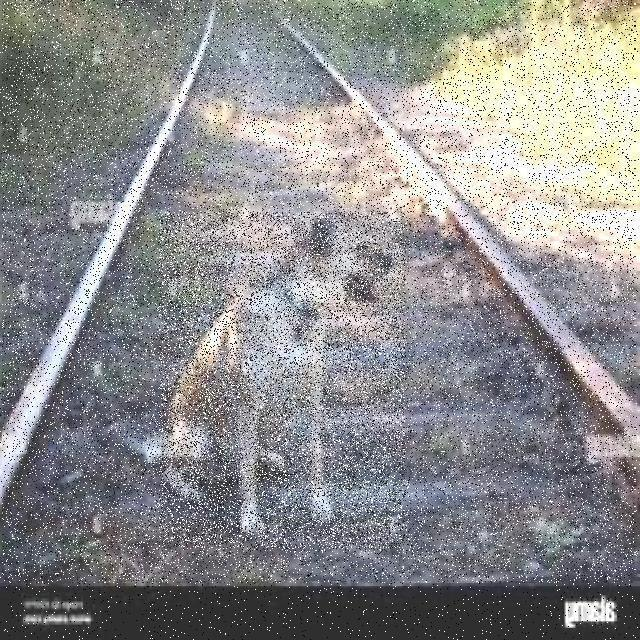rail: (4, 1, 636, 584)
